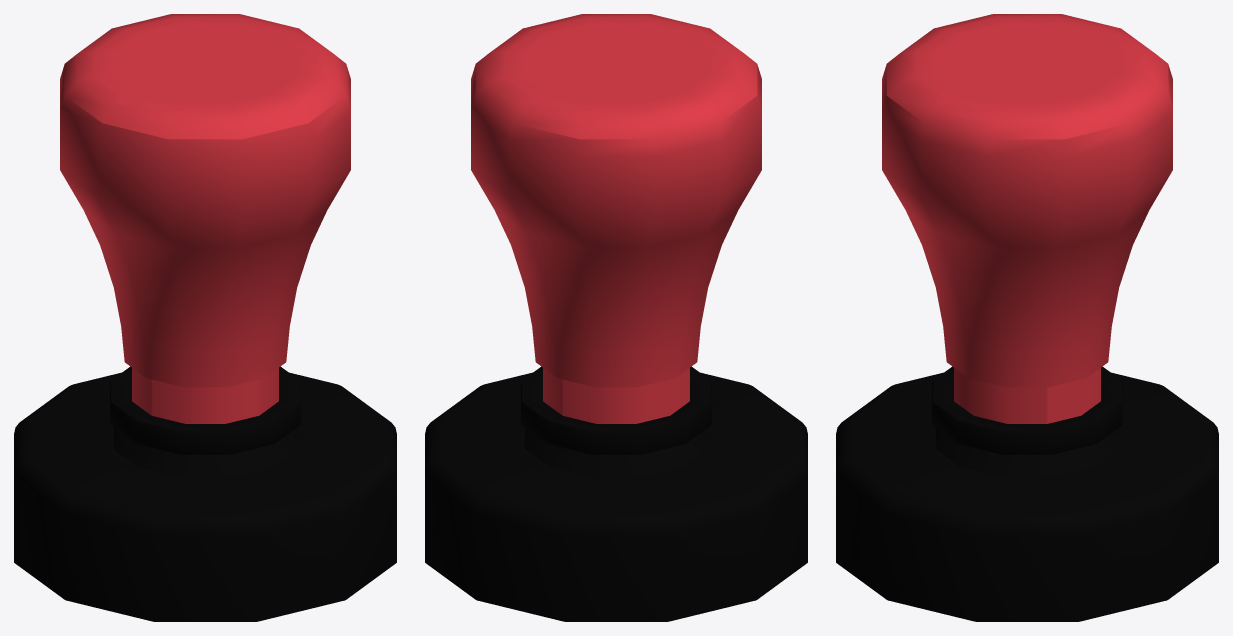
The model's file is StampleVisual.fbx.
The picture shows the model from 3 angles, left to right: view 1: azimuth 30°, elevation 25°; view 2: azimuth 150°, elevation 25°; view 3: azimuth 270°, elevation 25°; orthographic projection.
Visible parts, largest first — view 1: StampleVisual; view 2: StampleVisual; view 3: StampleVisual.
Boxes of the visible parts, x1,y1,x2,y2 form: StampleVisual: (14, 14, 396, 621); StampleVisual: (425, 14, 807, 621); StampleVisual: (836, 14, 1218, 621).
Bounding box in the file's own units: 4.17 × 5.77 × 4.17.
